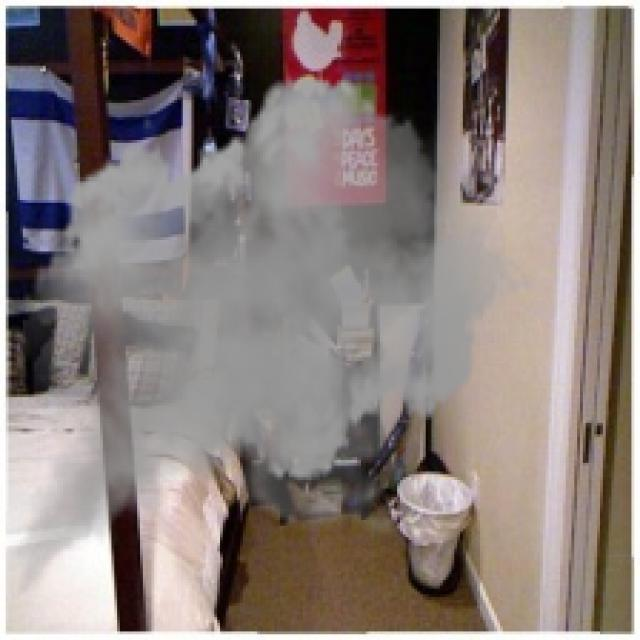smoke: (3, 60, 534, 626)
